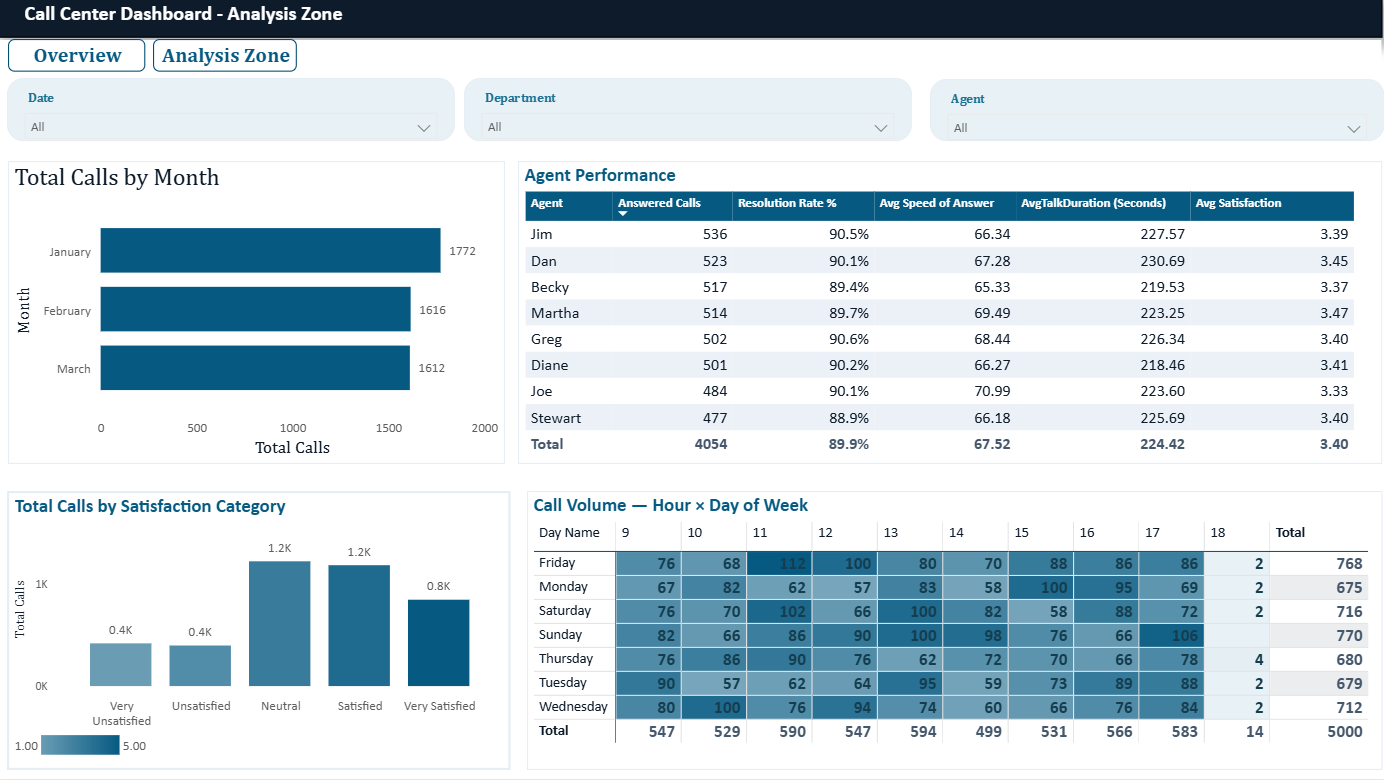

Layout of this report page (visuals, bound fields, positions):
{"tool":"powerbi","page":{"name":"Analysis Zone","canvas":[1280,720],"ordinal":1},"visuals":[{"type":"tableEx","title":"Agent Performance","fields":{"Values":["Call Center Data.Agent","Measures_.Answered Calls","Measures_.Resolution Rate %","Measures_.Avg Speed of Answer","Measures_.AvgTalkDuration (Seconds)","Measures_.Avg Satisfaction"]},"box":[480.8,153.2,792.8,278],"z":0},{"type":"pivotTable","title":"Call Volume — Hour × Day of Week","fields":{"Columns":["Call Center Data.Hour"],"Rows":["Call Center Data.Day Name"],"Values":["Measures_.Total Calls"]},"box":[489.1,456,784.5,256],"z":1000},{"type":"clusteredColumnChart","fields":{"Category":["Call Center Data.Satisfaction Category"],"Y":["Measures_.Total Calls"]},"box":[11.9,456,462.5,256],"z":2000},{"type":"slicer","fields":{"Values":["Call Center Data.Date"]},"box":[11.8,77.1,410.7,58],"z":3000},{"type":"slicer","fields":{"Values":["Call Center Data.Department"]},"box":[431.5,77.1,410.7,58],"z":4000},{"type":"slicer","fields":{"Values":["Call Center Data.Agent"]},"box":[858.5,78,417,57.1],"z":5000},{"type":"textbox","box":[0.9,0,1279.1,39.5],"z":6000},{"type":"textbox","box":[0,39.9,1280,31.9],"z":7000},{"type":"actionButton","title":"Overview","box":[12.4,41.7,125.9,30.1],"z":8000},{"type":"actionButton","title":"Analysis Zone","box":[146.3,41.7,132.1,30.1],"z":9000},{"type":"clusteredBarChart","fields":{"Category":["Call Center Data.Date.Variation.Date Hierarchy.Month"],"Y":["Measures_.Total Calls"]},"box":[12.8,153.2,456,278],"z":10000}]}

Visuals, with their boxes in screenshot pixels (x1, y1, x2, y2), scaled from the page's 1280x720 canvas onto the 1384x780 screenshot:
"Agent Performance" tableEx: [520, 166, 1377, 467]
"Call Volume — Hour × Day of Week" pivotTable: [529, 494, 1377, 771]
clusteredColumnChart - Call Center Data.Satisfaction Category x Measures_.Total Calls: [13, 494, 513, 771]
slicer - Call Center Data.Date: [13, 84, 457, 146]
slicer - Call Center Data.Department: [467, 84, 911, 146]
slicer - Call Center Data.Agent: [928, 84, 1379, 146]
textbox: [1, 0, 1383, 43]
textbox: [0, 43, 1383, 78]
"Overview" actionButton: [13, 45, 150, 78]
"Analysis Zone" actionButton: [158, 45, 301, 78]
clusteredBarChart - Call Center Data.Date.Variation.Date Hierarchy.Month x Measures_.Total Calls: [14, 166, 507, 467]
